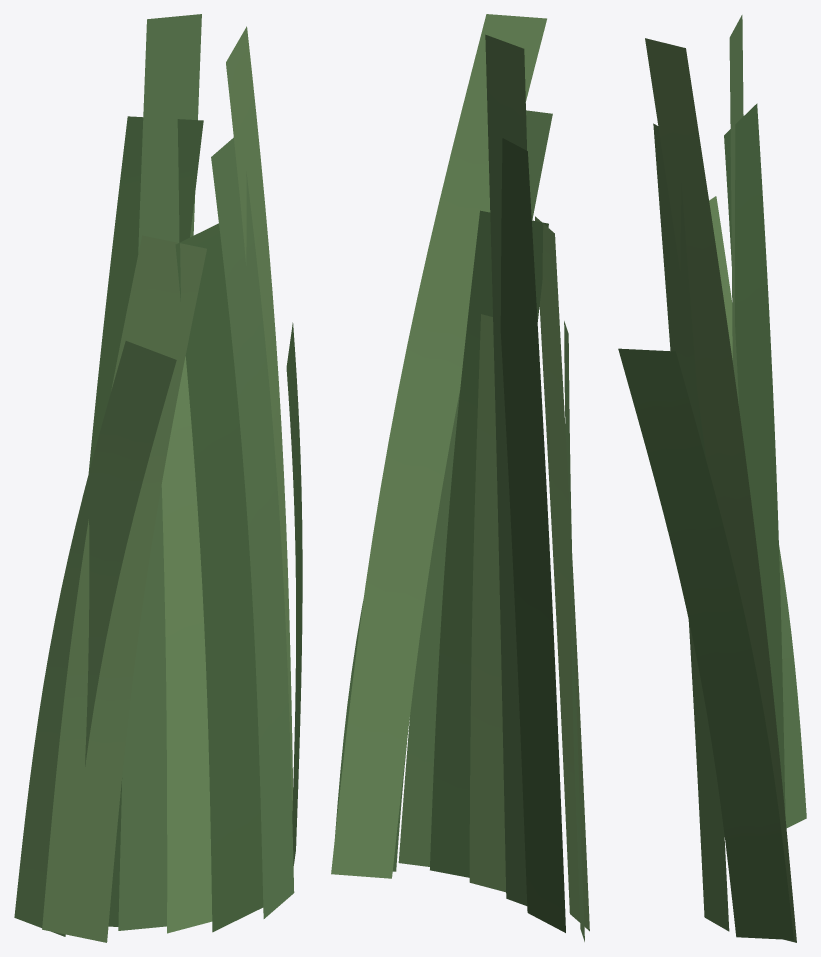
The model's file is plant-sword-cluster.glb.
3 views of the same model, side by side, from view 1: azimuth 30°, elevation 25°; view 2: azimuth 150°, elevation 25°; view 3: azimuth 270°, elevation 25° (orthographic). The views are drawn at different scales.
Bounding box in the file's own units: 0.9972 × 3.16 × 0.6277.
